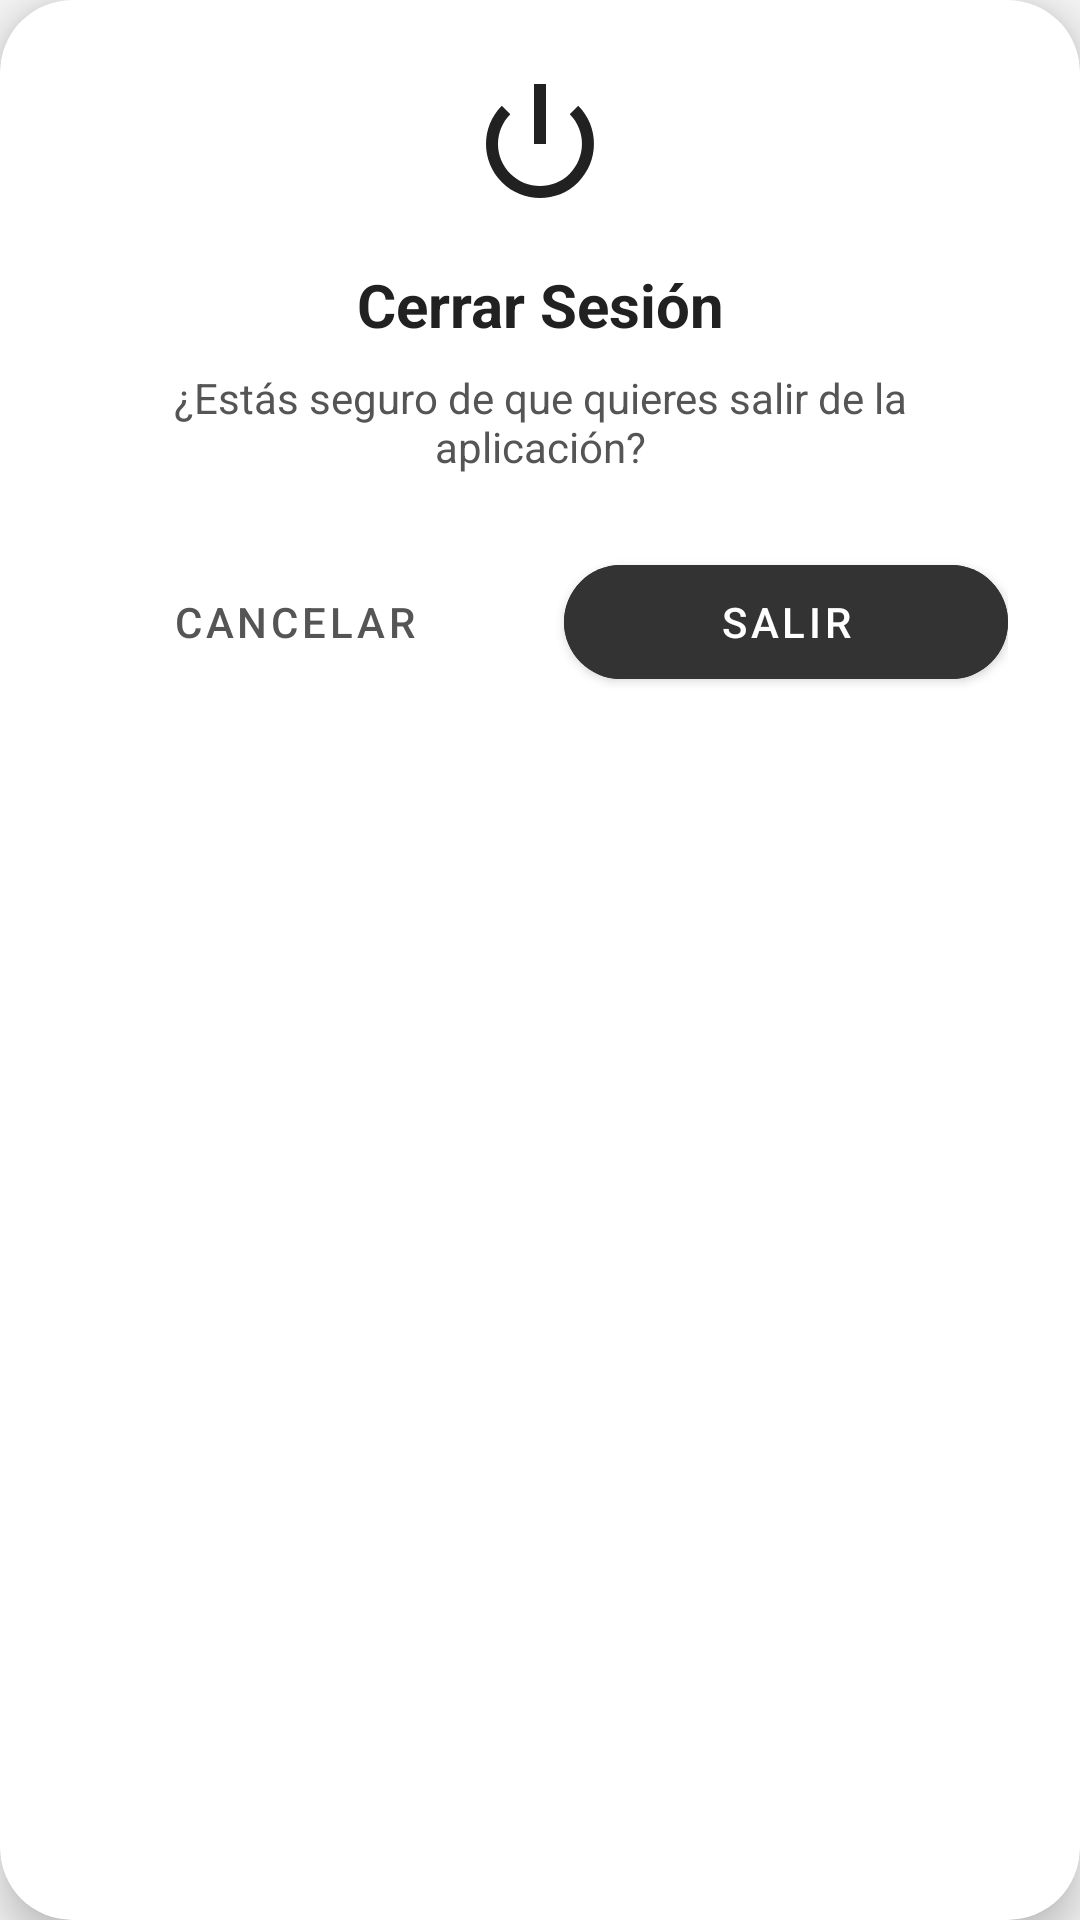

Where to tap for icons on this 1080 x 1920 app screen, as point (x, y):
lock power off: point (540, 141)
